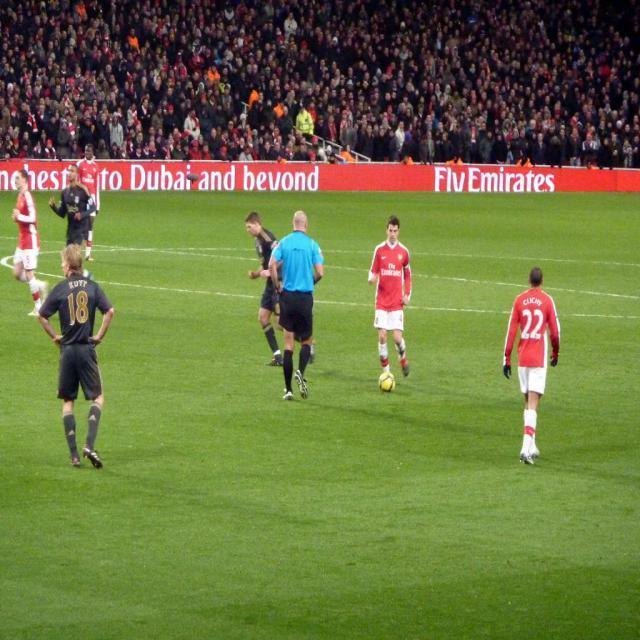ball: (376, 371, 396, 392)
